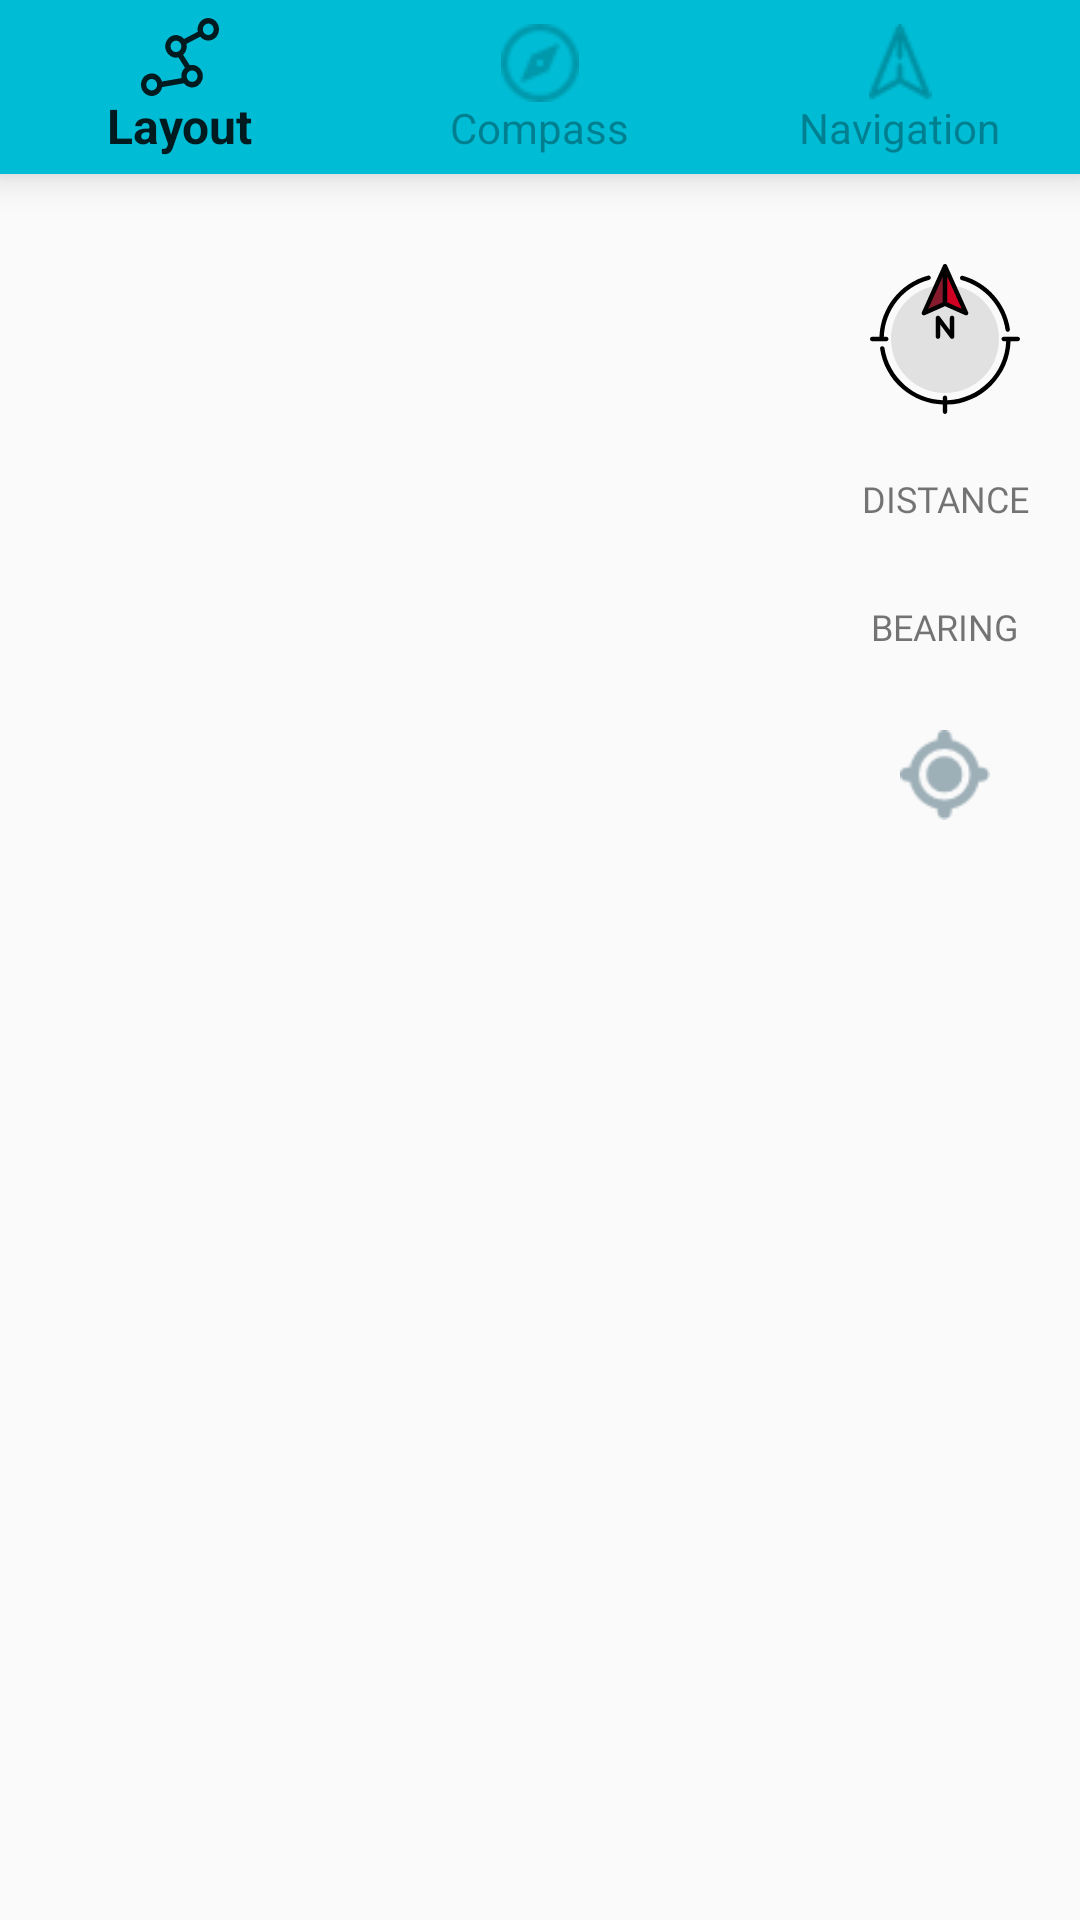

Screen size 1080x1920. Icon name, then its box in pixels as {"x1": x1, "y1": y1, "x2": x2, "y2": y2}:
compass navmap: {"x1": 870, "y1": 264, "x2": 1020, "y2": 414}
crosshair: {"x1": 900, "y1": 730, "x2": 990, "y2": 820}
